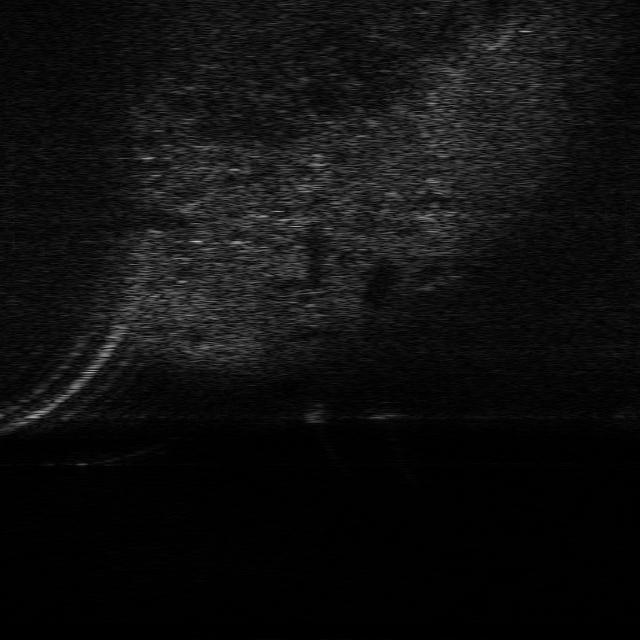cube: (362, 398, 400, 423)
cylinder: (304, 399, 328, 425)
